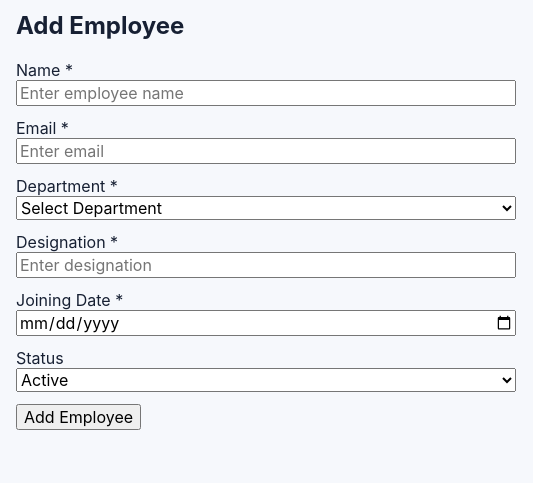
EmployeeForm › shows validation error when required fields are empty
Click the button "Add Employee". click: (79, 417)
box: [16, 404, 141, 430]
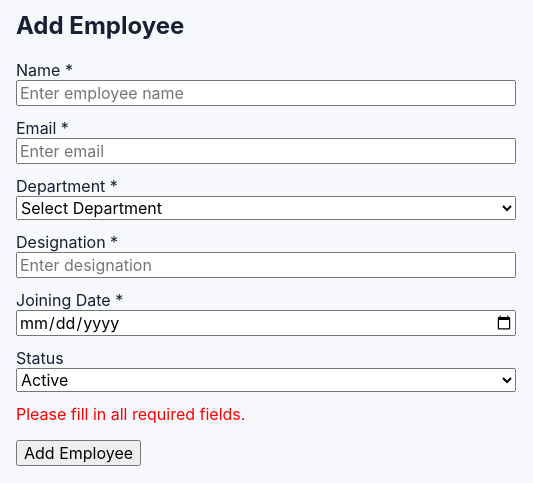
Check: the text "Please fill in all required fields." is shown, box [16, 404, 245, 424]
